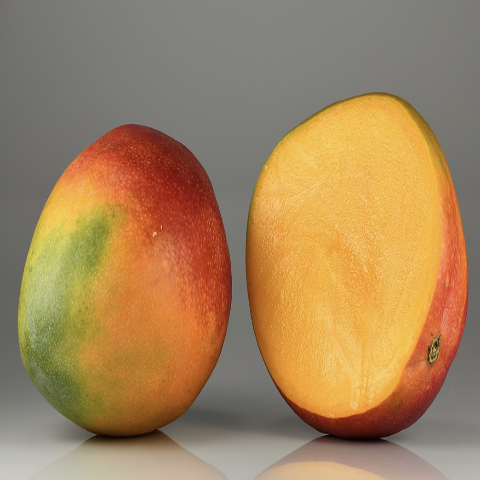mango: (242, 75, 473, 476), (13, 119, 237, 471)
